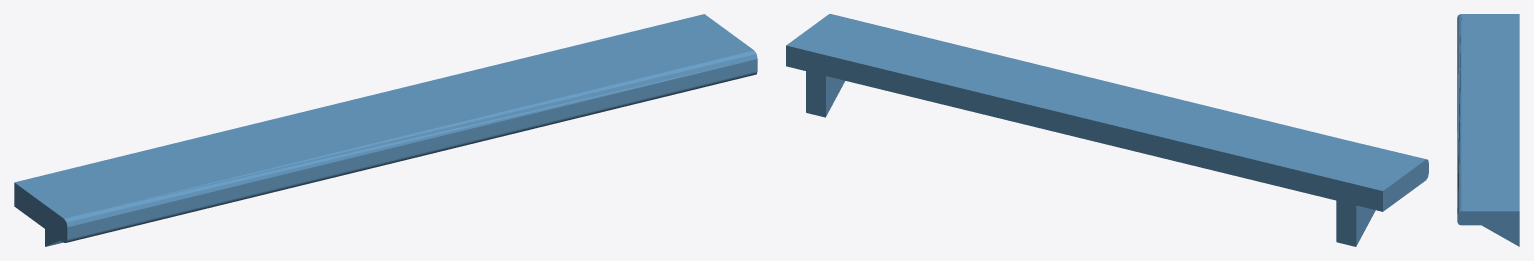
Rendered from KitchenWallPlatform.FBX.
3 renders of one model, left to right at view 1: azimuth 30°, elevation 25°; view 2: azimuth 150°, elevation 25°; view 3: azimuth 270°, elevation 25°, orthographic. The views are drawn at different scales.
Visible parts, largest first — view 1: Wall Stand; view 2: Wall Stand; view 3: Wall Stand.
Boxes of the visible parts, x1=… form: Wall Stand: x1=14, y1=14, x2=757, y2=246; Wall Stand: x1=786, y1=14, x2=1428, y2=246; Wall Stand: x1=1457, y1=14, x2=1519, y2=246.
Bounding box in the file's own units: 74.72 × 7.47 × 9.96.
